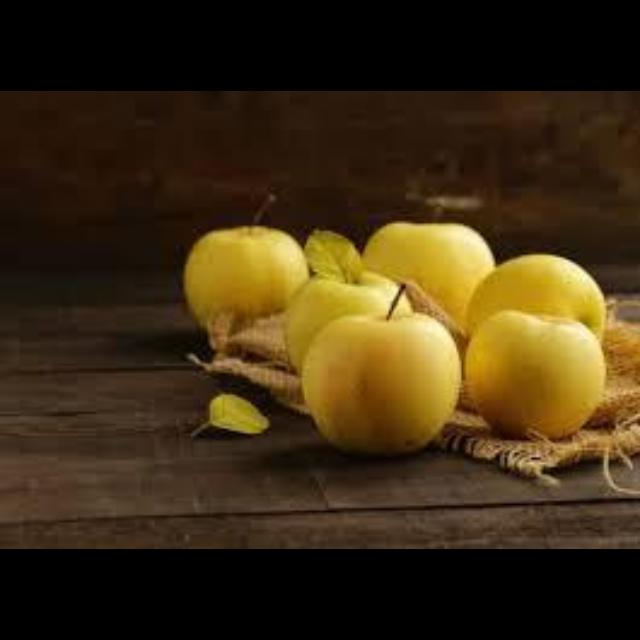apple: (299, 308, 461, 456), (464, 311, 604, 439), (184, 195, 307, 328), (362, 221, 493, 323), (464, 255, 604, 337), (285, 272, 396, 371)
